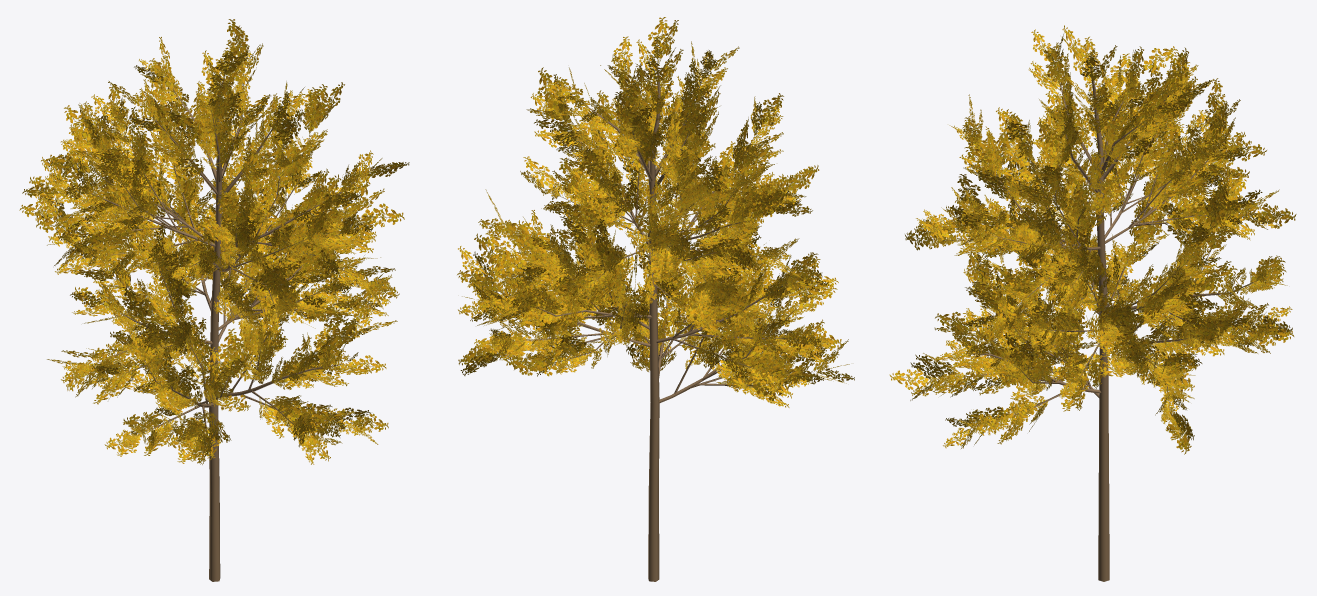
The model's file is tree1_lod1.glb.
3 renders of one model, left to right at view 1: azimuth 30°, elevation 25°; view 2: azimuth 150°, elevation 25°; view 3: azimuth 270°, elevation 25°, orthographic.
Visible parts, largest first — view 1: leaves, trunk; view 2: leaves, trunk; view 3: leaves, trunk.
Part boxes in pixels (x1=…): leaves: x1=19, y1=19, x2=409, y2=464; trunk: x1=61, y1=72, x2=365, y2=581; leaves: x1=457, y1=17, x2=854, y2=407; trunk: x1=500, y1=60, x2=807, y2=581; leaves: x1=889, y1=25, x2=1296, y2=454; trunk: x1=943, y1=64, x2=1257, y2=581.
Size of the model in its own units: 0.6526 by 1 by 0.6797.
2 materials, 1 textured.
